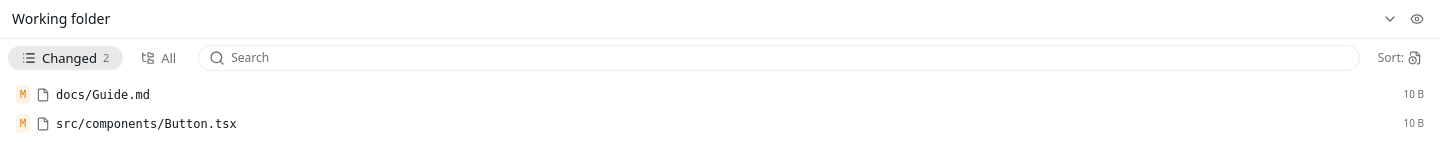
Scenario: FilesPanel changed files search › filters already-loaded changed files case-insensitively
In the search field named "Search changed files": (790,58) [231, 50, 1349, 66], type "BUTTON"
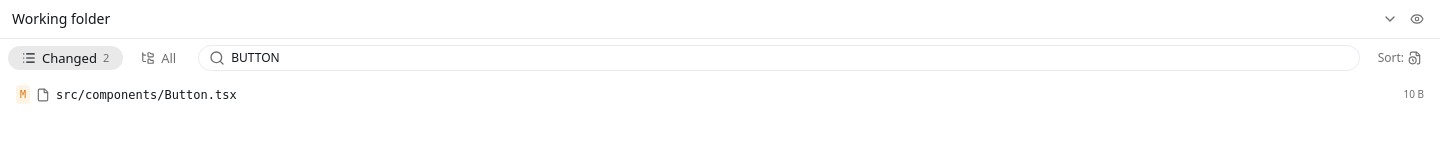
Result: the button "docs/Guide.md" is gone
Clear the search field named "Search changed files": (790,58) [231, 50, 1349, 66]
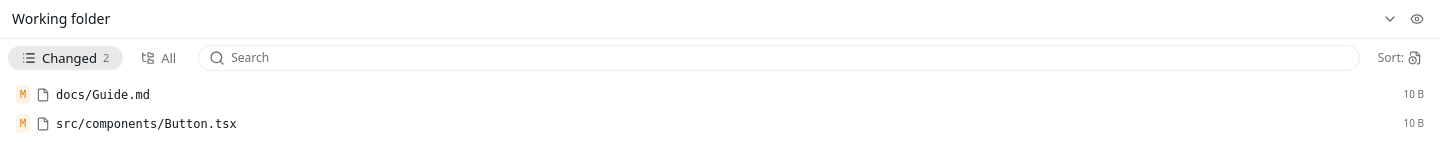
Result: the text "docs/Guide.md" is shown at [56, 88, 150, 102]
